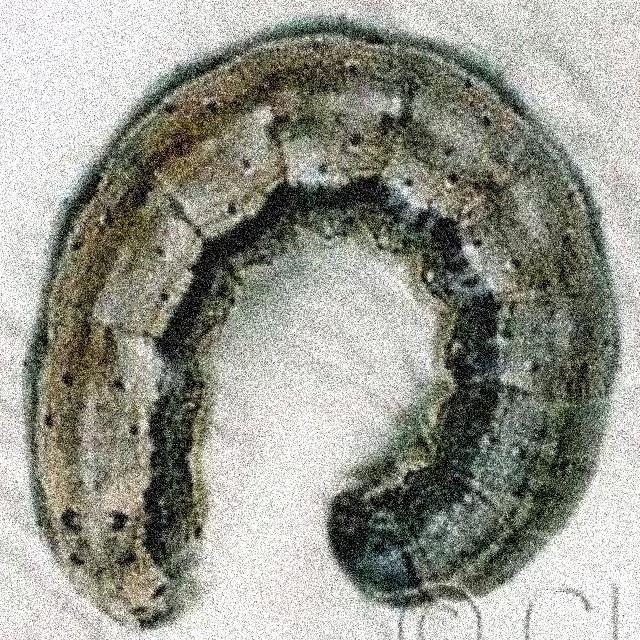Plaga: (24, 1, 640, 615)
